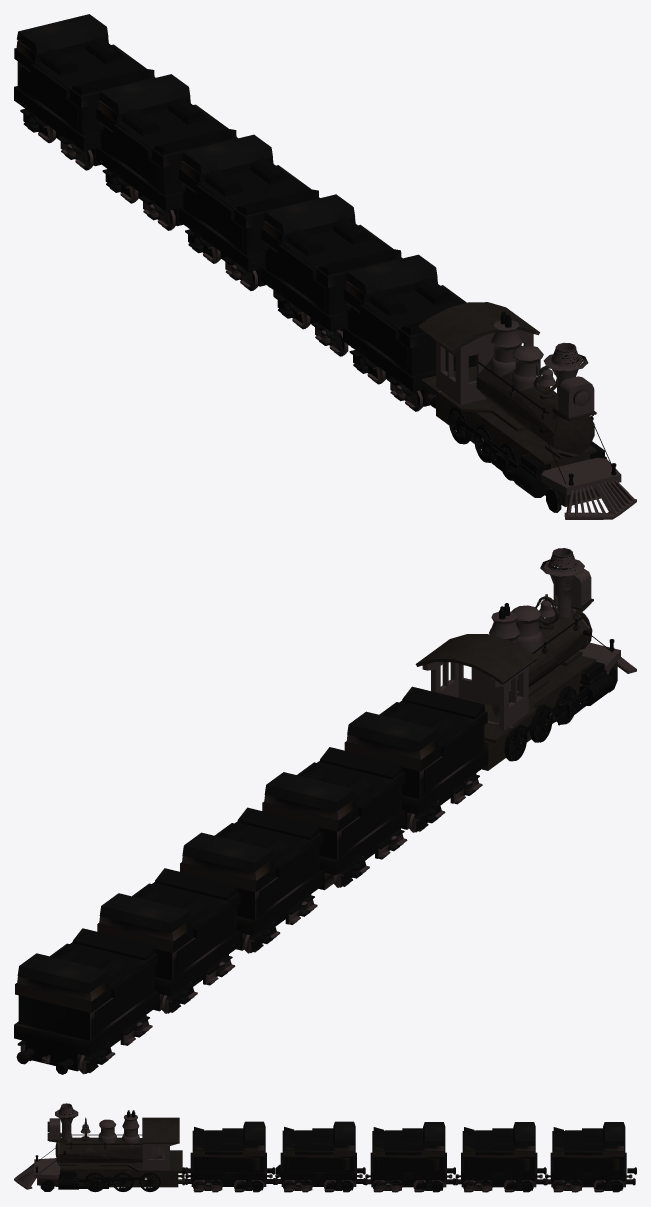
The picture shows the model from 3 angles, top to bottom: view 1: azimuth 30°, elevation 25°; view 2: azimuth 150°, elevation 25°; view 3: azimuth 270°, elevation 25°; orthographic projection. The views are drawn at different scales.
Visible parts, largest first — view 1: polySurface32 (×5), polySurface33 (×5), polySurface31 (×5), polySurface2 (×5), polySurface109, polySurface117, polySurface113, polySurface43, polySurface7, polySurface106, polySurface38, polySurface40 (+5 smaller); view 2: polySurface32 (×5), polySurface33 (×5), polySurface31 (×5), polySurface2 (×5), polySurface43, polySurface109, polySurface117, polySurface113, polySurface7, polySurface112, polySurface37, polySurface34 (+1 smaller); view 3: polySurface32 (×5), polySurface33 (×5), polySurface2 (×6), polySurface31 (×5), polySurface113, polySurface117, polySurface14 (×5), polySurface9 (×5), polySurface1 (×6), polySurface3 (×5), polySurface4 (×5), polySurface109 (+11 smaller).
Boxes of the visible parts, <box> form: polySurface32 (×5): <box>14,37,466,348</box>; polySurface33 (×5): <box>17,61,476,375</box>; polySurface31 (×5): <box>17,14,437,294</box>; polySurface2 (×5): <box>14,86,476,391</box>; polySurface109: <box>418,302,539,353</box>; polySurface117: <box>436,393,600,506</box>; polySurface113: <box>476,358,562,447</box>; polySurface43: <box>432,330,533,404</box>; polySurface7: <box>457,416,550,497</box>; polySurface106: <box>541,457,621,495</box>; polySurface38: <box>564,480,636,519</box>; polySurface40: <box>552,416,594,457</box>; polySurface32 (×5): <box>15,686,487,1012</box>; polySurface33 (×5): <box>18,725,484,1040</box>; polySurface31 (×5): <box>17,711,438,993</box>; polySurface2 (×5): <box>14,749,488,1056</box>; polySurface43: <box>422,662,528,730</box>; polySurface109: <box>415,634,537,684</box>; polySurface117: <box>481,655,617,770</box>; polySurface113: <box>517,609,589,690</box>; polySurface7: <box>520,662,613,737</box>; polySurface112: <box>540,548,584,617</box>; polySurface37: <box>511,605,542,652</box>; polySurface34: <box>458,678,548,742</box>; polySurface32 (×5): <box>192,1126,625,1157</box>; polySurface33 (×5): <box>193,1156,623,1172</box>; polySurface2 (×6): <box>112,1152,626,1191</box>; polySurface31 (×5): <box>243,1121,625,1145</box>; polySurface113: <box>58,1137,142,1163</box>; polySurface117: <box>37,1163,178,1187</box>; polySurface14 (×5): <box>193,1180,581,1192</box>; polySurface9 (×5): <box>234,1180,622,1192</box>; polySurface1 (×6): <box>139,1172,625,1191</box>; polySurface3 (×5): <box>222,1140,603,1149</box>; polySurface4 (×5): <box>222,1128,603,1137</box>; polySurface109: <box>142,1117,179,1143</box>.
Size of the model in its own units: 427 by 677 by 4805.
Materials: 1 (1 with a texture image).
